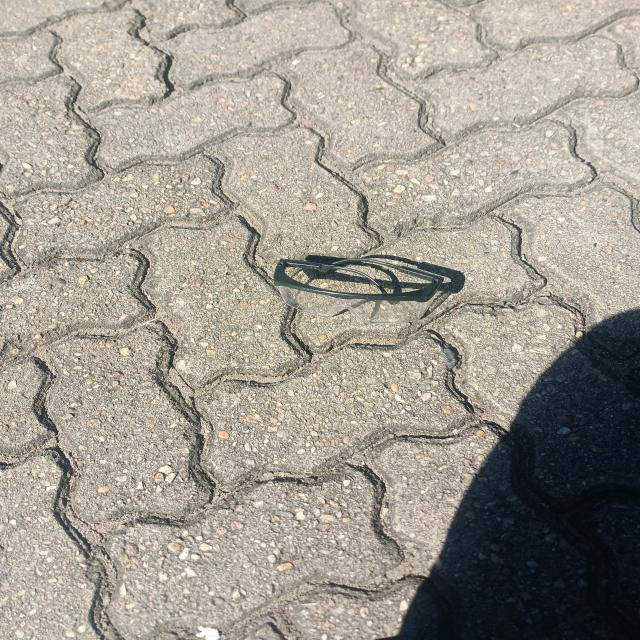oculos-epi: (258, 239, 462, 329)
